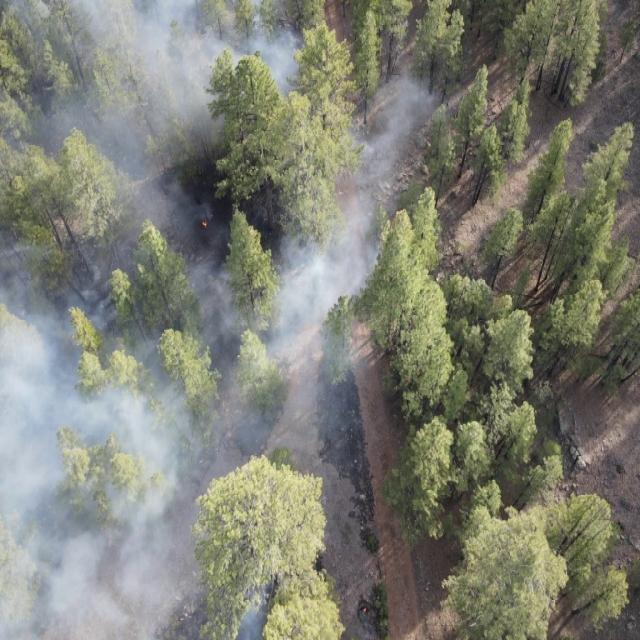fire: (1, 0, 436, 298), (0, 299, 359, 640), (200, 220, 209, 230), (362, 604, 368, 617)
